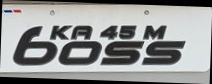character: (11, 25, 58, 66), (141, 39, 186, 66), (58, 39, 101, 66), (101, 39, 144, 66), (142, 24, 167, 40), (70, 25, 93, 42), (49, 24, 73, 40), (118, 23, 137, 40), (99, 24, 119, 40)
